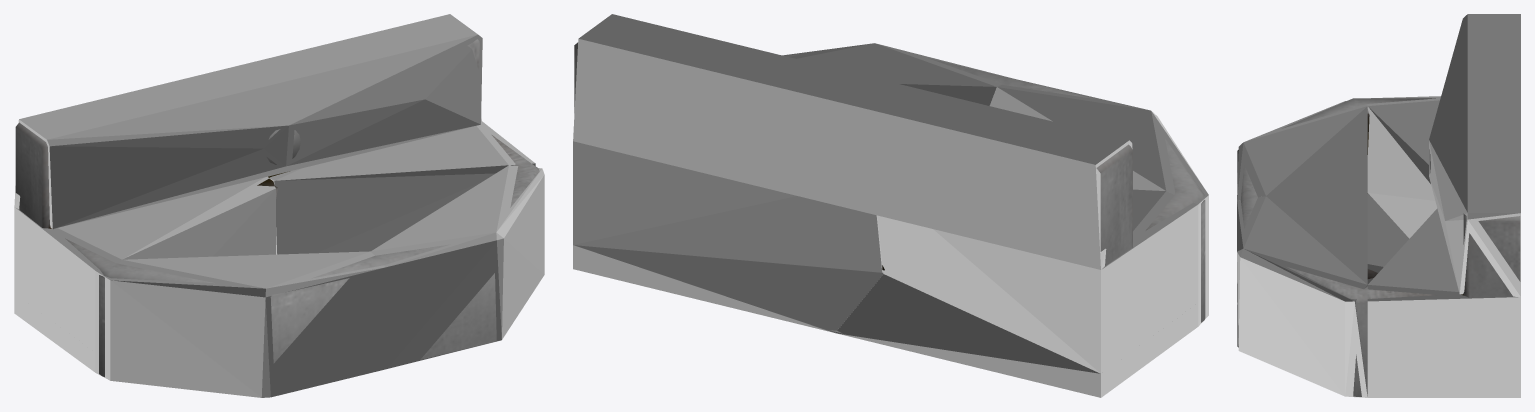
Rendered from SM_Handsink.fbx.
The picture shows the model from 3 angles, left to right: view 1: azimuth 30°, elevation 25°; view 2: azimuth 150°, elevation 25°; view 3: azimuth 270°, elevation 25°; orthographic projection. The views are drawn at different scales.
Parts seen in each view (by area): view 1: SM_Handsink_ConvexHulls, SM_Handsink; view 2: SM_Handsink_ConvexHulls, SM_Handsink; view 3: SM_Handsink_ConvexHulls, SM_Handsink.
Part boxes in pixels (bbox=[...]): SM_Handsink_ConvexHulls: bbox=[14, 14, 544, 397]; SM_Handsink: bbox=[15, 39, 539, 376]; SM_Handsink_ConvexHulls: bbox=[573, 14, 1208, 397]; SM_Handsink: bbox=[574, 42, 1205, 333]; SM_Handsink_ConvexHulls: bbox=[1237, 14, 1520, 397]; SM_Handsink: bbox=[1237, 98, 1520, 396].
Bounding box in the file's own units: 80.37 × 47.46 × 33.71.
Materials: 2 (1 with a texture image).
